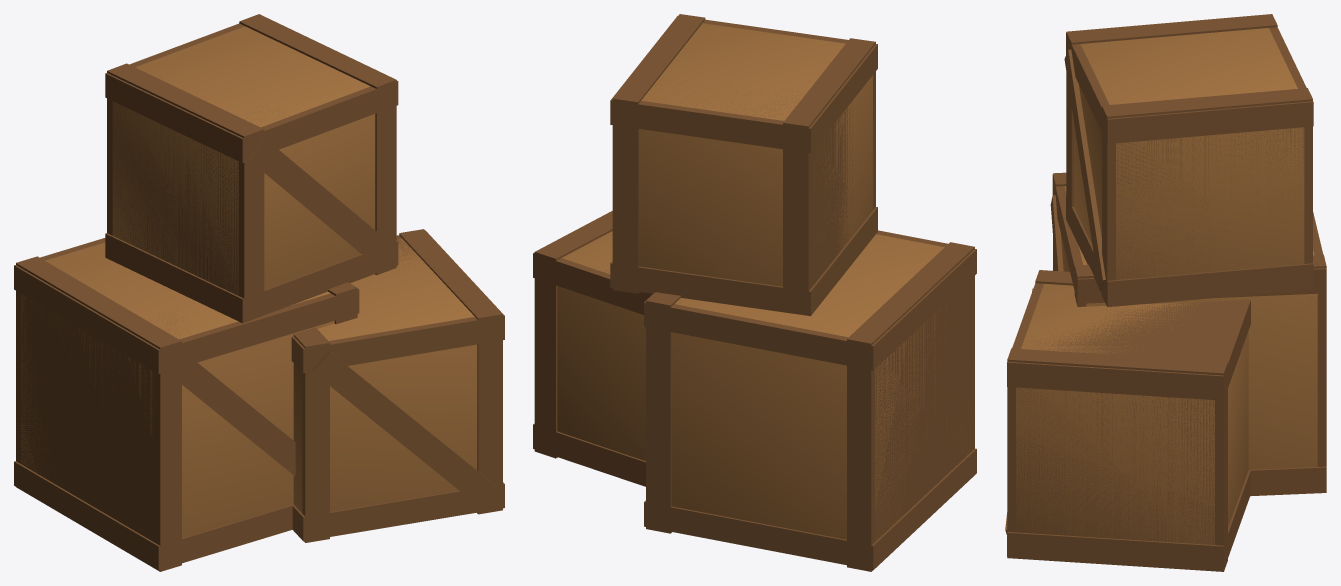
The model's file is crates.glb.
The picture shows the model from 3 angles, left to right: view 1: azimuth 30°, elevation 25°; view 2: azimuth 150°, elevation 25°; view 3: azimuth 270°, elevation 25°; orthographic projection.
Visible parts, largest first — view 1: c.002, plankV, c.001, c, plankV.004, plankH.001, plankH.005, plankH.004, plankH, plankV.003, diag.001, plankH.003 (+5 smaller); view 2: c, c.002, plankV, c.001, plankV.004, plankH.001, plankH, plankH.005, plankV.005, plankH.004, plankV.001, plankV.003 (+2 smaller); view 3: c.002, c.001, plankV.003, plankH.003, c, plankV.005, plankH.005, plankH.002, plankH.004, plankV.004, plankH.001, diag.002 (+4 smaller).
Boxes of the visible parts, x1=… form: c.002: x1=112, y1=26, x2=375, y2=295; plankV: x1=16, y1=256, x2=181, y2=571; c.001: x1=293, y1=238, x2=477, y2=513; c: x1=21, y1=242, x2=334, y2=537; plankV.004: x1=107, y1=63, x2=264, y2=311; plankH.001: x1=14, y1=238, x2=359, y2=374; plankH.005: x1=105, y1=23, x2=398, y2=163; plankH.004: x1=105, y1=233, x2=398, y2=323; plankH: x1=14, y1=461, x2=292, y2=570; plankV.003: x1=399, y1=229, x2=502, y2=514; diag.001: x1=312, y1=351, x2=497, y2=507; plankH.003: x1=291, y1=231, x2=504, y2=373; c: x1=671, y1=234, x2=970, y2=540; c.002: x1=639, y1=23, x2=872, y2=286; plankV: x1=847, y1=242, x2=974, y2=571; c.001: x1=557, y1=231, x2=645, y2=460; plankV.004: x1=783, y1=38, x2=875, y2=315; plankH.001: x1=644, y1=230, x2=976, y2=370; plankH: x1=644, y1=448, x2=976, y2=570; plankH.005: x1=610, y1=16, x2=877, y2=153; plankV.005: x1=612, y1=14, x2=705, y2=293; plankH.004: x1=610, y1=207, x2=877, y2=316; plankV.001: x1=646, y1=292, x2=680, y2=533; plankV.003: x1=534, y1=211, x2=612, y2=458; c.002: x1=1074, y1=28, x2=1304, y2=279; c.001: x1=1016, y1=283, x2=1248, y2=544; plankV.003: x1=1007, y1=348, x2=1227, y2=571; plankH.003: x1=1007, y1=283, x2=1250, y2=400; c: x1=1060, y1=186, x2=1317, y2=469; plankV.005: x1=1102, y1=88, x2=1312, y2=307; plankH.005: x1=1066, y1=27, x2=1313, y2=143; plankH.002: x1=1007, y1=470, x2=1250, y2=570; plankH.004: x1=1066, y1=195, x2=1313, y2=305; plankV.004: x1=1066, y1=14, x2=1277, y2=230; plankH.001: x1=1052, y1=174, x2=1326, y2=303; diag.002: x1=1064, y1=49, x2=1105, y2=289.
Bounding box in the file's own units: 0.9754 × 1.02 × 0.7193.
